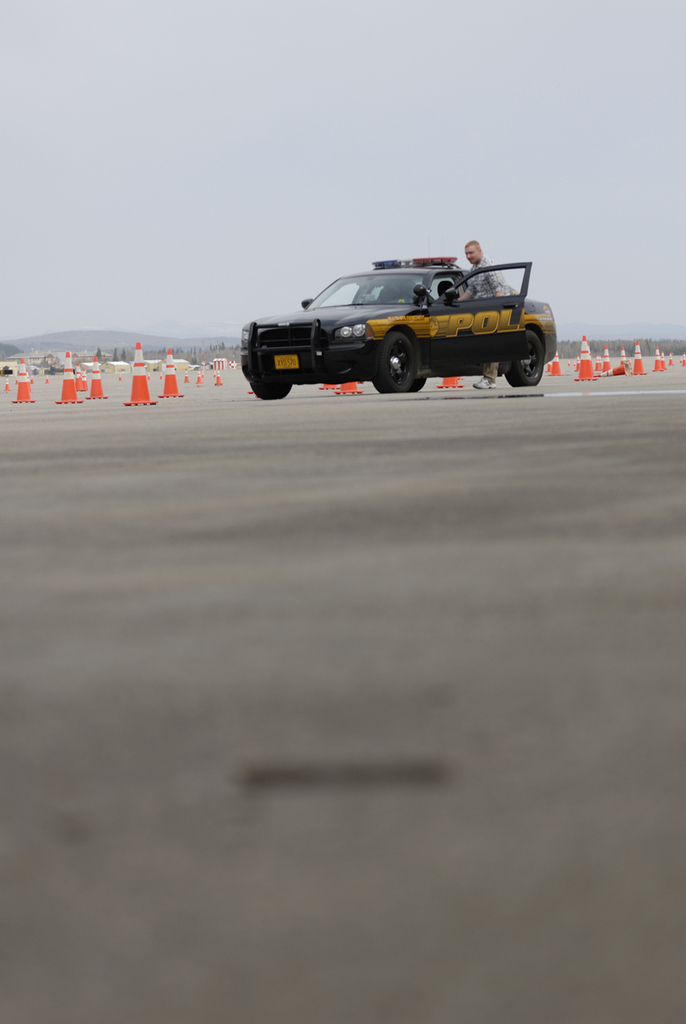Car: (243, 226, 558, 393)
